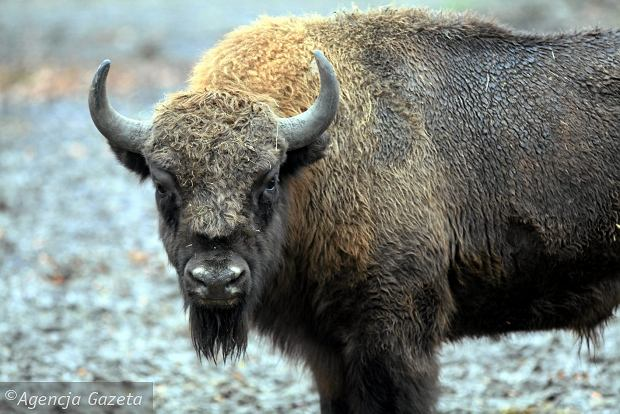zubr: (68, 4, 614, 414)
